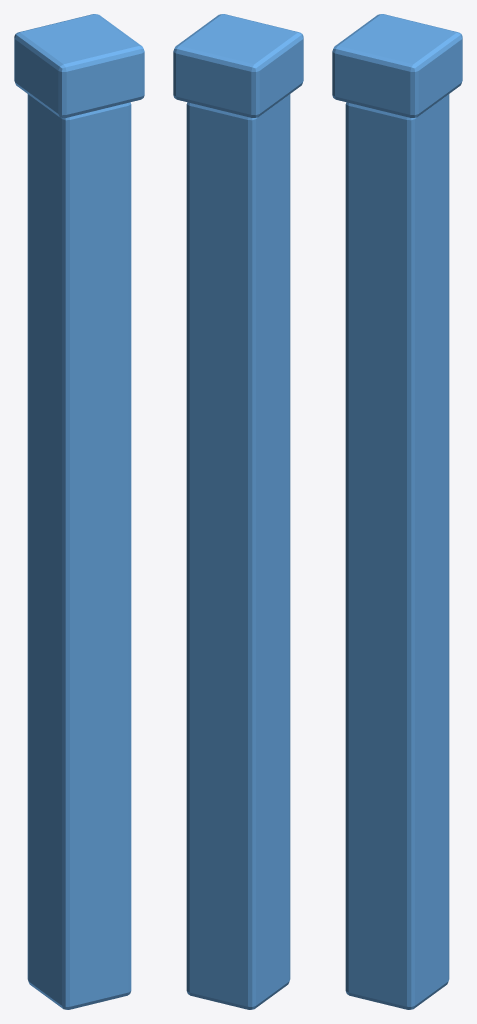
Rendered from PGK_Post_Square_1m_LOD0.fbx.
3 views of the same model, side by side, from view 1: azimuth 30°, elevation 25°; view 2: azimuth 150°, elevation 25°; view 3: azimuth 330°, elevation 25° (orthographic).
Parts seen in each view (by area): view 1: Post, Cap; view 2: Post, Cap; view 3: Post, Cap.
Boxes of the visible parts, bbox=[...] form: Post: bbox=[27, 94, 131, 1009]; Cap: bbox=[14, 14, 144, 117]; Post: bbox=[186, 94, 290, 1009]; Cap: bbox=[173, 14, 303, 117]; Post: bbox=[345, 94, 449, 1009]; Cap: bbox=[332, 14, 462, 117].
Bounding box in the file's own units: 0.1 × 1.06 × 0.1.
